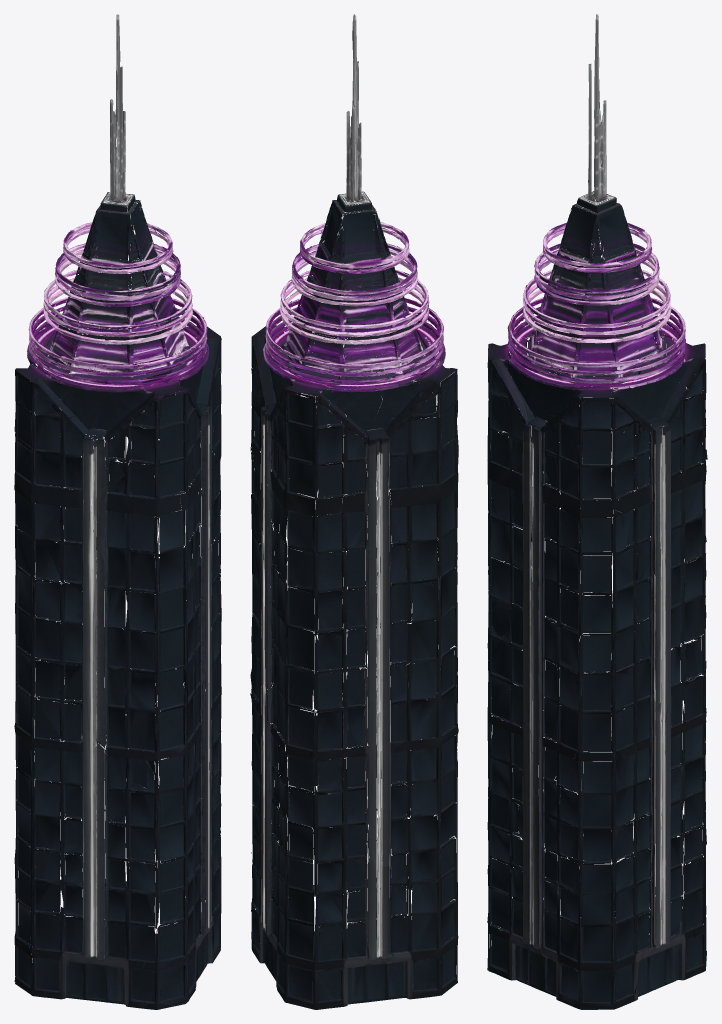
Rendered from neon-spire.glb.
3 renders of one model, left to right at view 1: azimuth 30°, elevation 25°; view 2: azimuth 150°, elevation 25°; view 3: azimuth 270°, elevation 25°, orthographic.
Parts seen in each view (by area): view 1: MeshyFit; view 2: MeshyFit; view 3: MeshyFit.
Boxes of the visible parts, x1,y1,x2,y2 form: MeshyFit: [14, 14, 221, 1009]; MeshyFit: [250, 14, 458, 1009]; MeshyFit: [487, 14, 707, 1009].
Size of the model in its own units: 42.21 by 200 by 42.05.
1 material, 1 textured.
